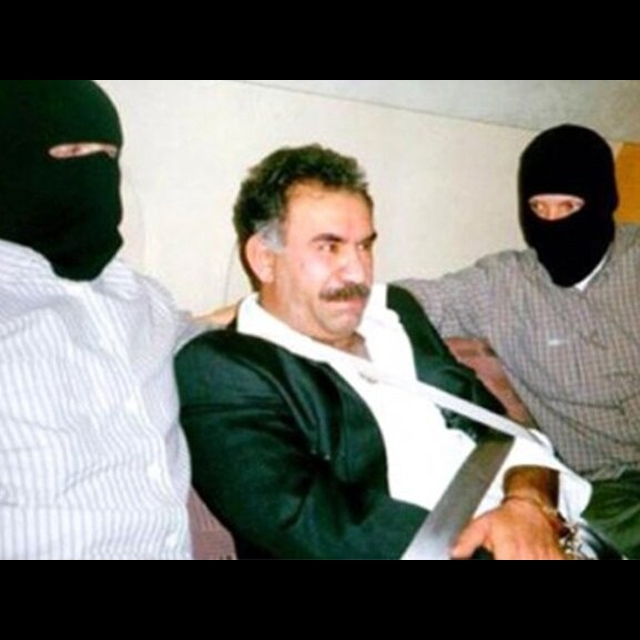APO: (230, 153, 411, 359)
